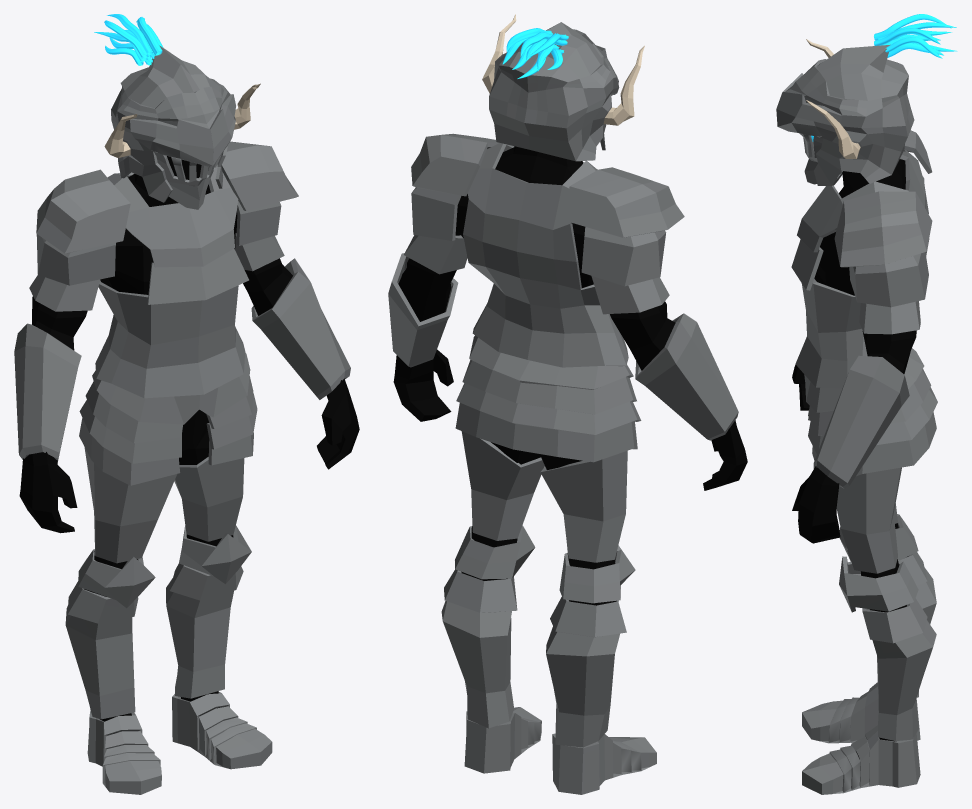
Rendered from aster 1.fbx.
3 views of the same model, side by side, from view 1: azimuth 30°, elevation 25°; view 2: azimuth 150°, elevation 25°; view 3: azimuth 270°, elevation 25° (orthographic). The views are drawn at different scales.
Visible parts, largest first — view 1: solo.001, NurbsPath.008; view 2: solo.001, NurbsPath.008; view 3: solo.001, NurbsPath.008.
Part boxes in pixels (box(x1,y1,x2,y2)): solo.001: box(14, 45, 359, 794); NurbsPath.008: box(94, 14, 163, 65); solo.001: box(388, 14, 747, 794); NurbsPath.008: box(502, 28, 568, 78); solo.001: box(776, 39, 937, 794); NurbsPath.008: box(874, 14, 957, 58).
Size of the model in its own units: 1220 by 2558 by 577.
